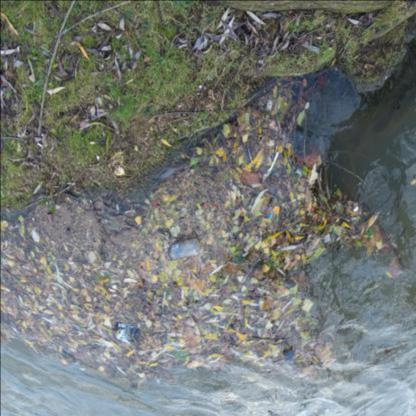Bottle cap: (167, 238, 200, 259), (284, 348, 295, 363)
Plastic bag - wrapper: (113, 322, 140, 346)
